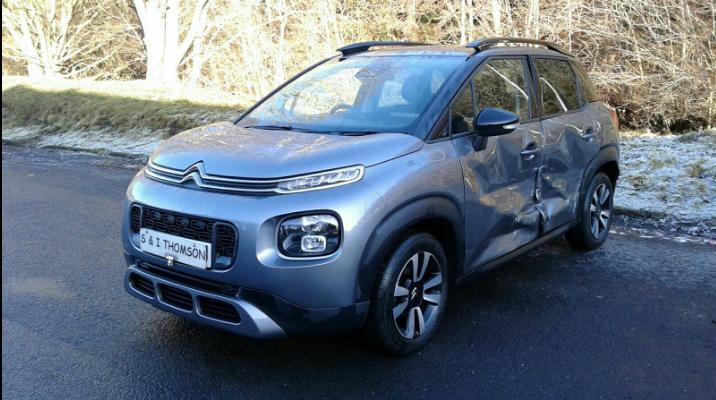Back-door: (528, 55, 601, 235)
Back-wheel: (564, 172, 613, 251)
Back-window: (533, 59, 579, 116), (580, 84, 587, 106)
Fender: (361, 141, 466, 280)
Front-bumper: (122, 163, 400, 339)
Front-door: (449, 55, 546, 277)
Front-wheel: (368, 229, 449, 354)
Front-window: (474, 59, 529, 120), (451, 81, 474, 134), (434, 119, 449, 139)
Grille: (130, 202, 240, 271)
Headlight: (276, 165, 365, 195), (276, 216, 337, 259), (148, 153, 153, 166)
Hood: (144, 120, 424, 196)
License-plate: (140, 228, 212, 269)
Mirror: (472, 107, 519, 152)
Quarter-panel: (580, 102, 619, 194)
Rocker-panel: (455, 194, 586, 290)
Roof: (335, 37, 575, 57)
Tail-light: (606, 108, 619, 131)
Windshield: (236, 55, 472, 136)
